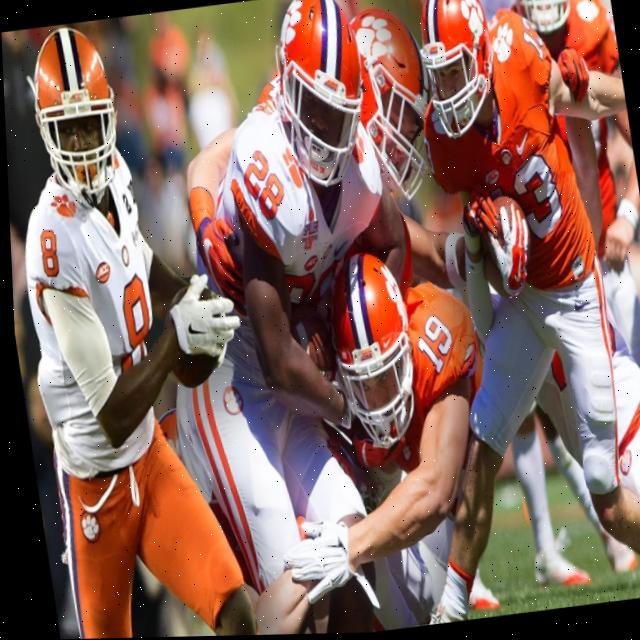illegal_helmet: (311, 245, 426, 461), (340, 0, 449, 211), (262, 0, 377, 196), (18, 19, 131, 214), (407, 0, 506, 149)
